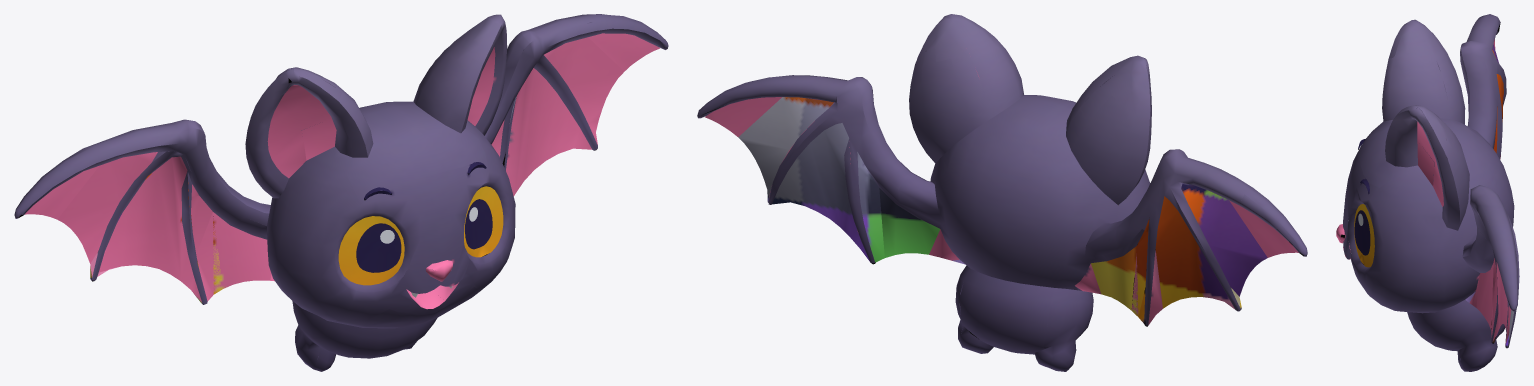
File: kit-bat.glb
The picture shows the model from 3 angles, left to right: view 1: azimuth 30°, elevation 25°; view 2: azimuth 150°, elevation 25°; view 3: azimuth 270°, elevation 25°; orthographic projection. The views are drawn at different scales.
Parts seen in each view (by area): view 1: WBA_Decoration_Bat_01_WBA_MAT_Halloween_Atlas_0.001; view 2: WBA_Decoration_Bat_01_WBA_MAT_Halloween_Atlas_0.001; view 3: WBA_Decoration_Bat_01_WBA_MAT_Halloween_Atlas_0.001.
Boxes of the visible parts, box(x1,y1,x2,y2) form: WBA_Decoration_Bat_01_WBA_MAT_Halloween_Atlas_0.001: box(14, 14, 668, 371); WBA_Decoration_Bat_01_WBA_MAT_Halloween_Atlas_0.001: box(697, 14, 1307, 371); WBA_Decoration_Bat_01_WBA_MAT_Halloween_Atlas_0.001: box(1336, 14, 1519, 371).
Size of the model in its own units: 0.3999 by 0.1947 by 0.1115.
Materials: 1 (1 with a texture image).
